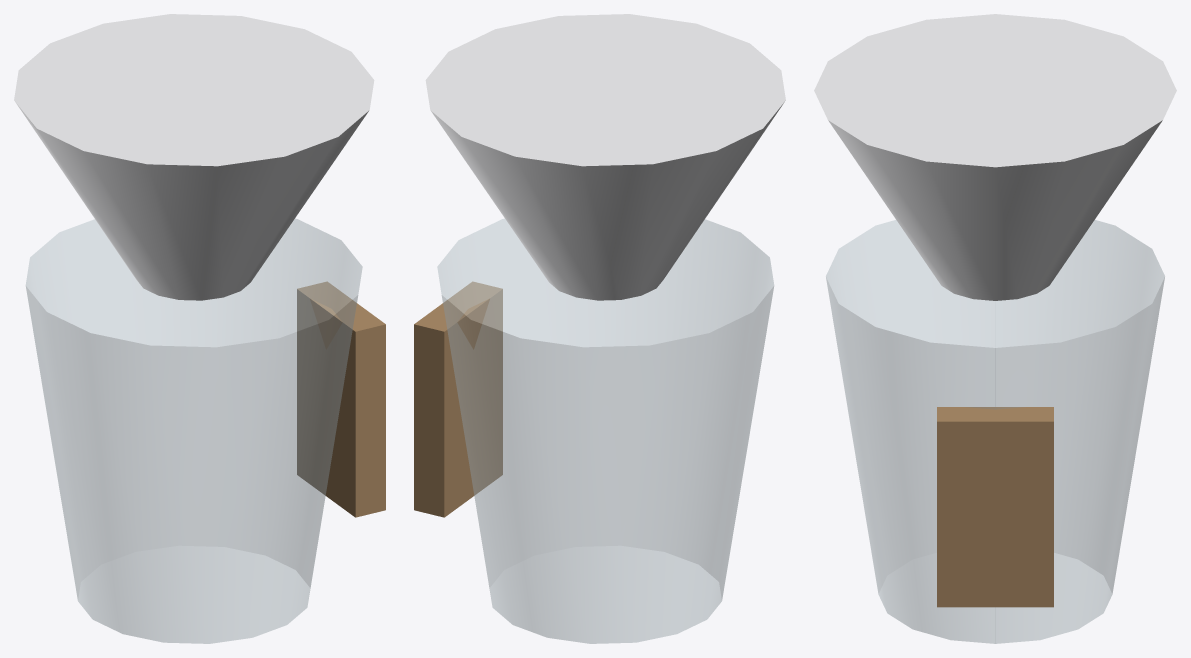
Rendered from PourOverSet.glb.
3 renders of one model, left to right at view 1: azimuth 30°, elevation 25°; view 2: azimuth 150°, elevation 25°; view 3: azimuth 270°, elevation 25°, orthographic.
Parts seen in each view (by area): view 1: PourOverSet; view 2: PourOverSet; view 3: PourOverSet.
Part boxes in pixels (x1=…): PourOverSet: x1=14, y1=14, x2=385, y2=643; PourOverSet: x1=414, y1=14, x2=785, y2=643; PourOverSet: x1=814, y1=14, x2=1176, y2=643.
Size of the model in its own units: 0.126 by 0.19 by 0.124.
